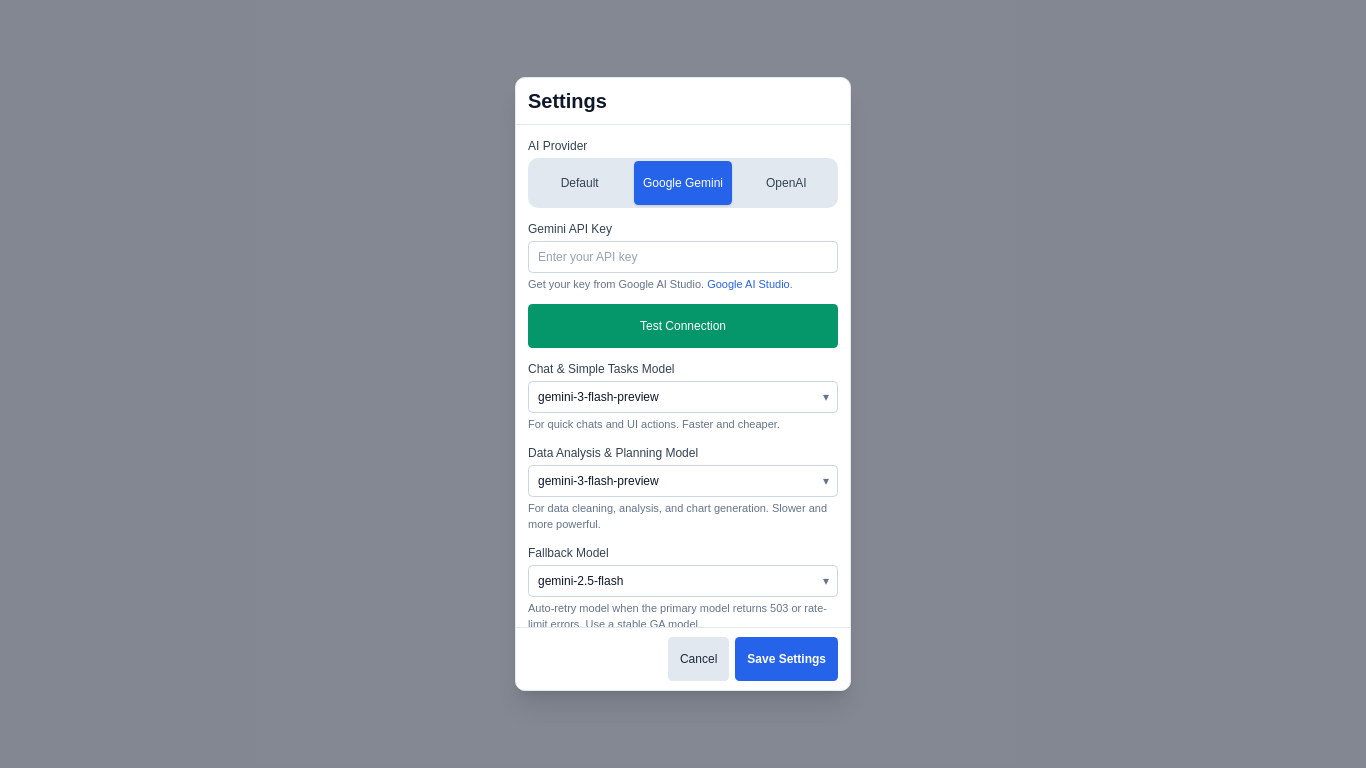
Test case: SettingsModal › blocks save and shows an error when the active provider key is empty
This screenshot has width=1366, height=768.
Click the button "Save Settings" at (787, 659), box [735,637,838,681]
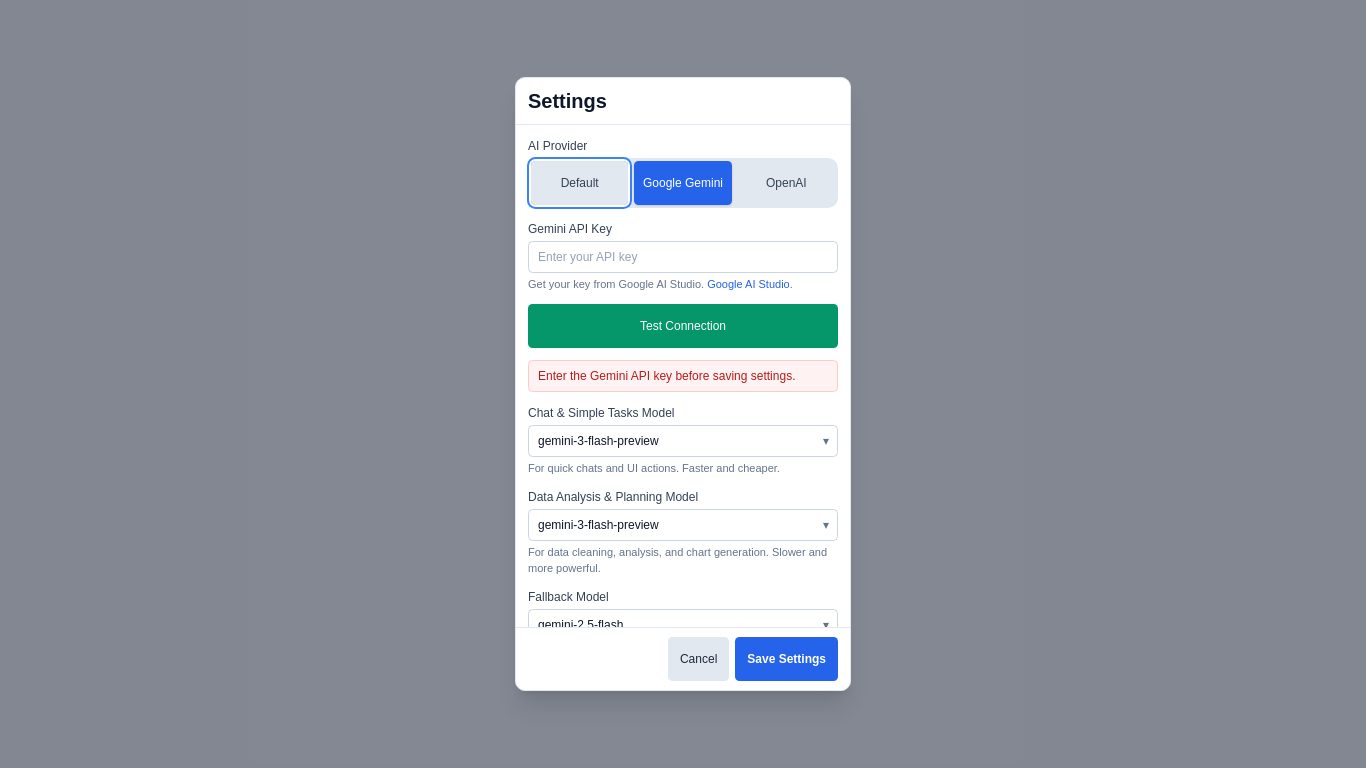
Expected: the message reads "Enter the Gemini API key before saving settings.", [538,369,796,383]
